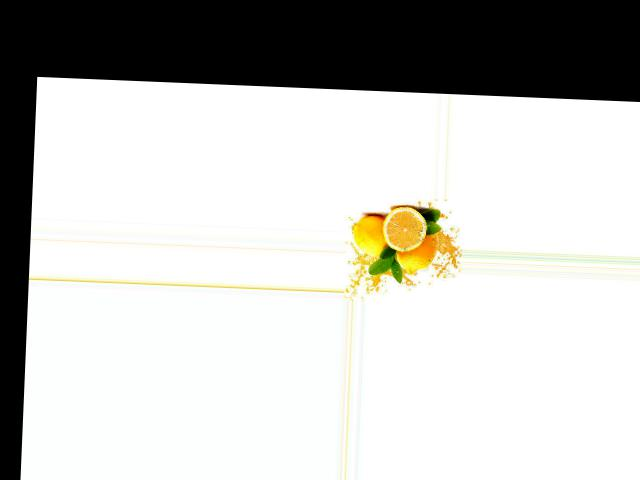lemon: (352, 212, 397, 261)
